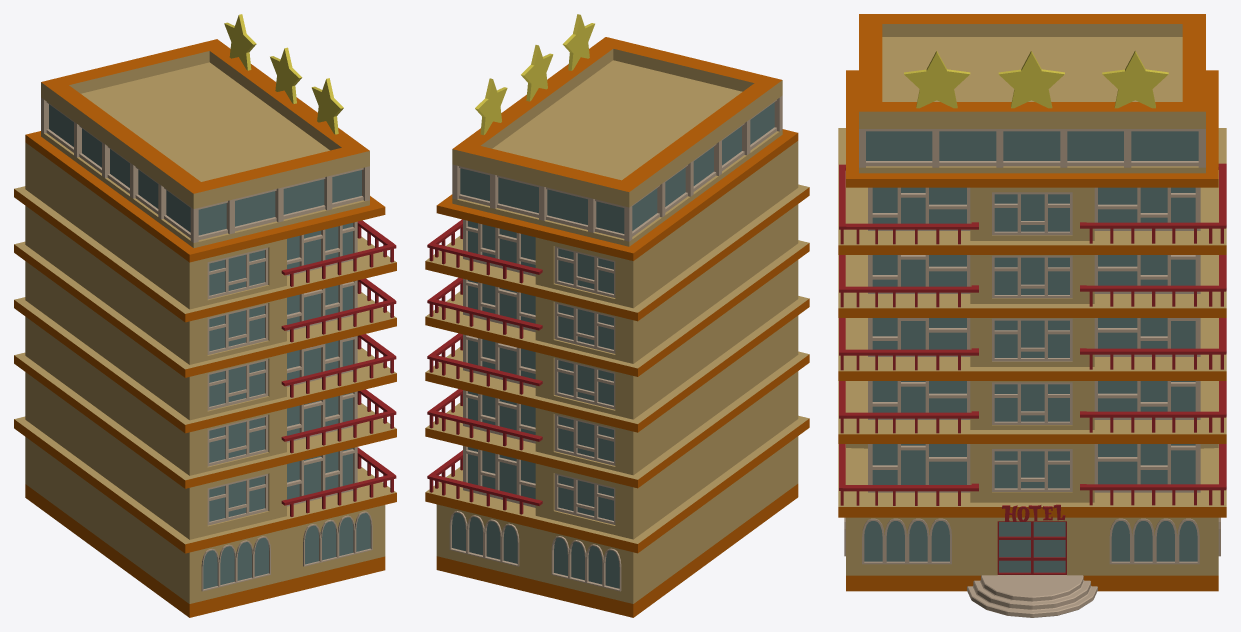
Rendered from Hotel(3star).gltf.
3 renders of one model, left to right at view 1: azimuth 30°, elevation 25°; view 2: azimuth 150°, elevation 25°; view 3: azimuth 270°, elevation 25°, orthographic. The views are drawn at different scales.
Parts seen in each view (by area): view 1: Hotel(3star); view 2: Hotel(3star); view 3: Hotel(3star).
Boxes of the visible parts, x1,y1,x2,y2 form: Hotel(3star): (14,14,396,617); Hotel(3star): (425,14,809,617); Hotel(3star): (838,14,1226,617).
Bounding box in the file's own units: 15.54 × 27.45 × 18.24.
